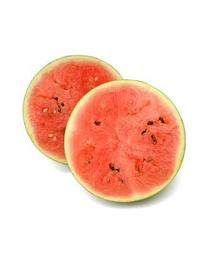watermelon: (23, 54, 188, 207)
